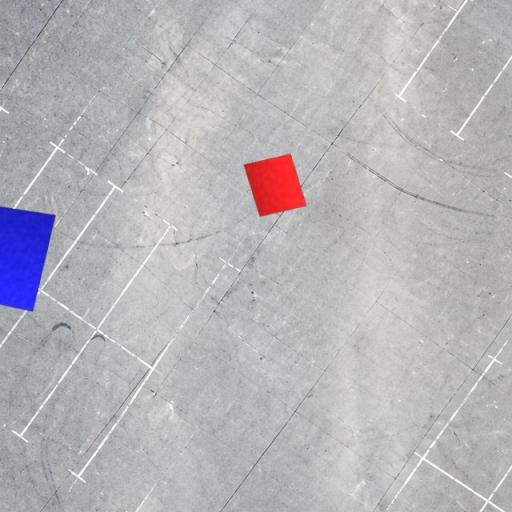BLUE_SQUARE: (0, 201, 56, 312)
RED_SQUARE: (242, 152, 308, 218)
